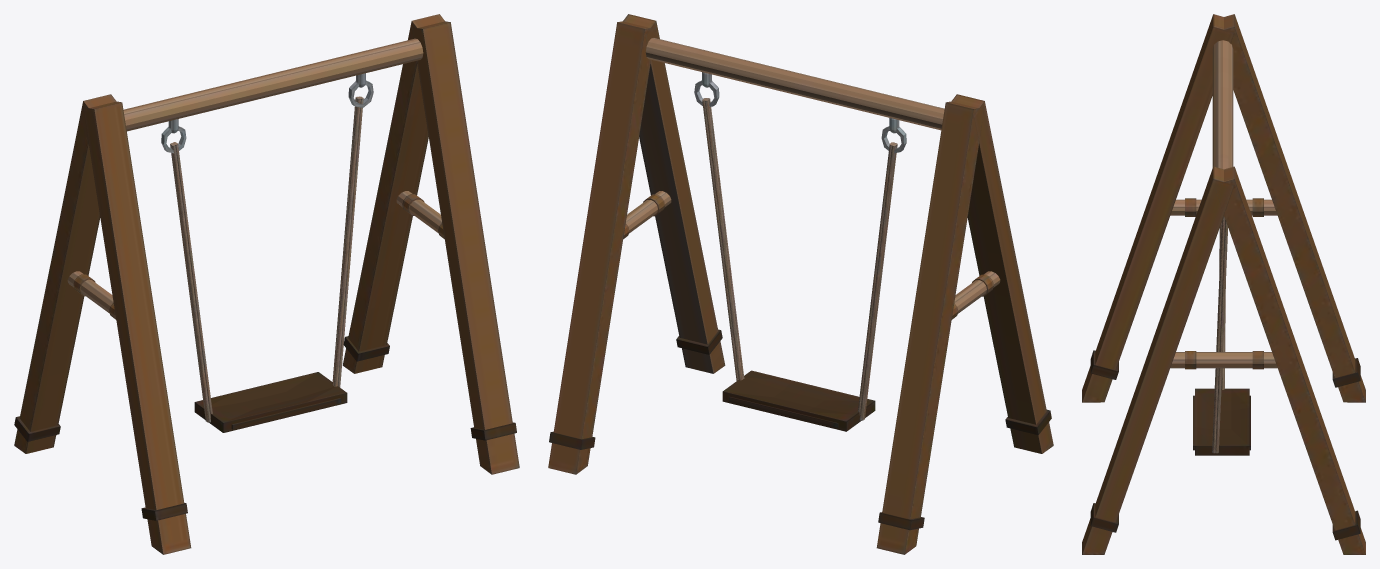
The model's file is 3mFM6lFd9P9.glb.
3 renders of one model, left to right at view 1: azimuth 30°, elevation 25°; view 2: azimuth 150°, elevation 25°; view 3: azimuth 270°, elevation 25°, orthographic. The views are drawn at different scales.
Parts seen in each view (by area): view 1: Node; view 2: Node; view 3: Node.
Boxes of the visible parts, left/top/right/bottom form: Node: left=14, top=14, right=519, bottom=554; Node: left=548, top=14, right=1053, bottom=554; Node: left=1082, top=14, right=1365, bottom=554.
Bounding box in the file's own units: 0.9557 × 1 × 0.6844.
Materials: 1 (1 with a texture image).
